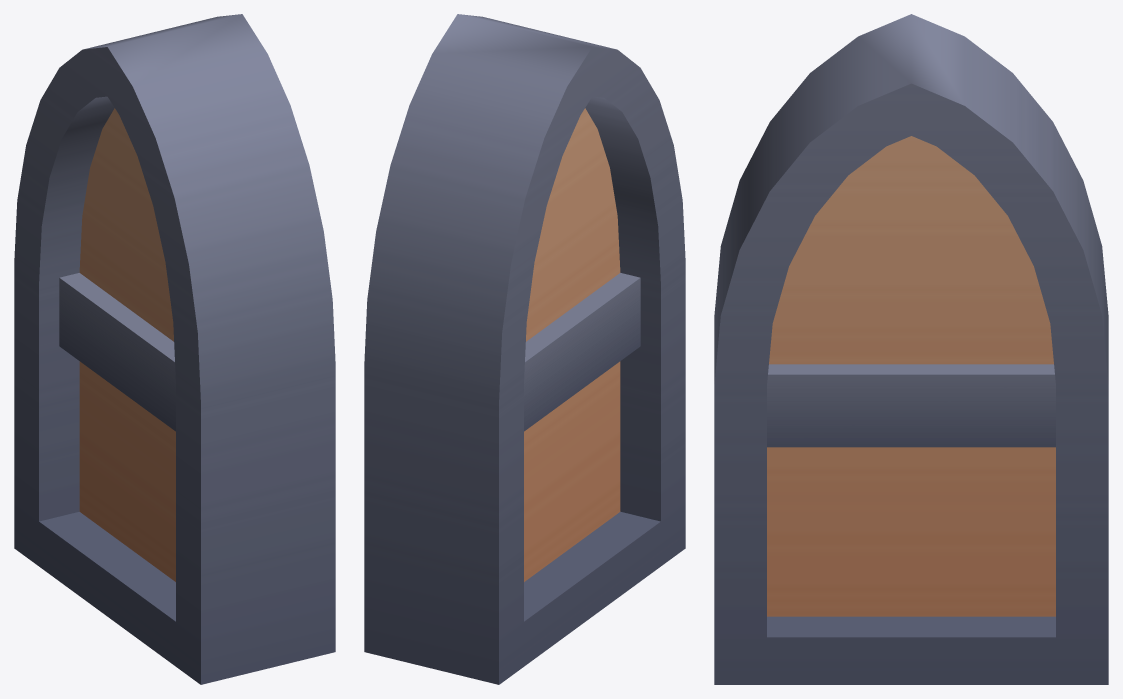
The model's file is door.002.fbx.
3 renders of one model, left to right at view 1: azimuth 30°, elevation 25°; view 2: azimuth 150°, elevation 25°; view 3: azimuth 270°, elevation 25°, orthographic. The views are drawn at different scales.
Visible parts, largest first — view 1: door.002; view 2: door.002; view 3: door.002.
Boxes of the visible parts, box(x1,y1,x2,y2) form: door.002: box(14, 14, 335, 684); door.002: box(364, 14, 685, 684); door.002: box(714, 14, 1108, 684).
Size of the model in its own units: 0.15 by 0.3594 by 0.6053.
